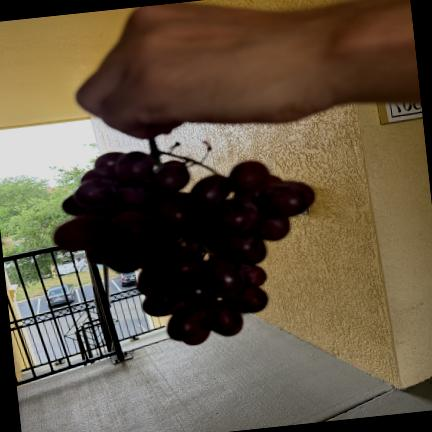grape_cluster: (54, 140, 314, 345)
